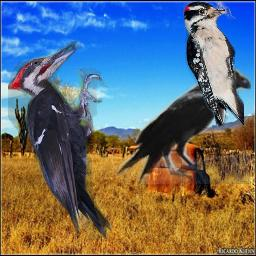Crow: (111, 64, 251, 184)
Woodpecker: (8, 41, 112, 240), (183, 1, 244, 127)
